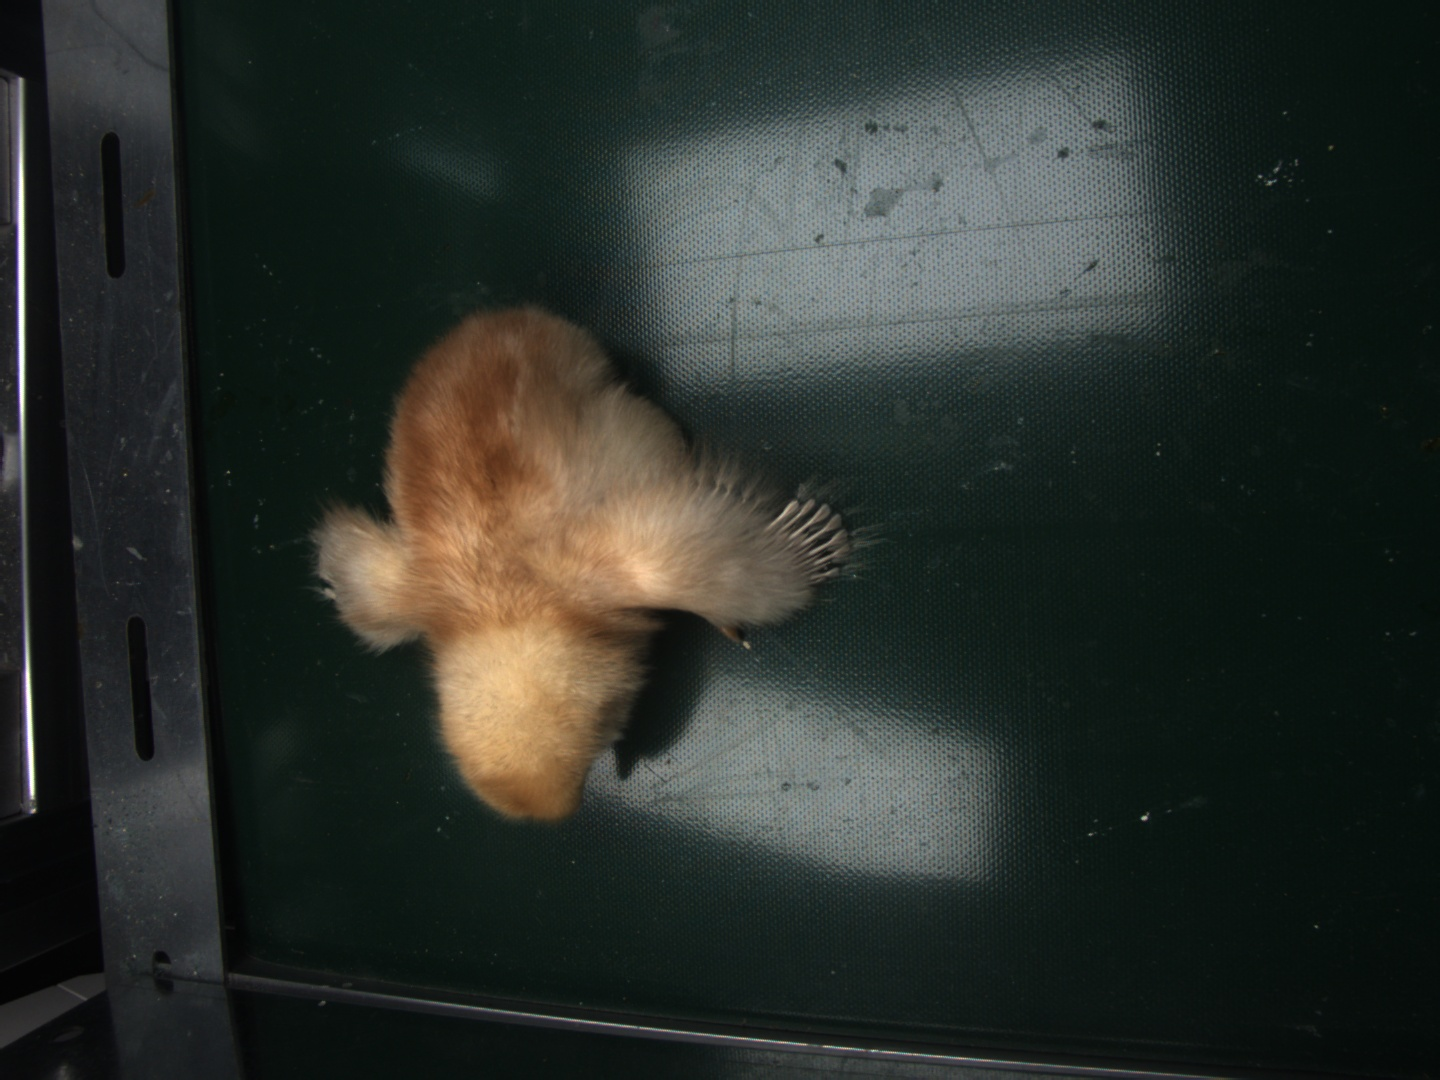female: (766, 492, 854, 583)
